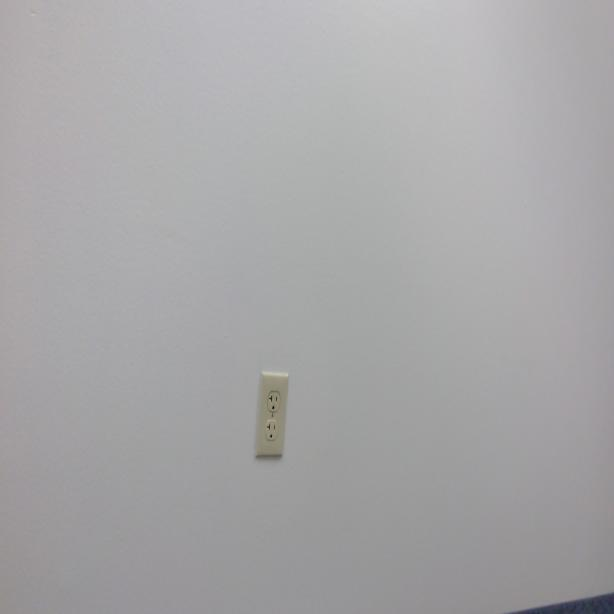typeb: (264, 420, 279, 441), (266, 393, 280, 414)
